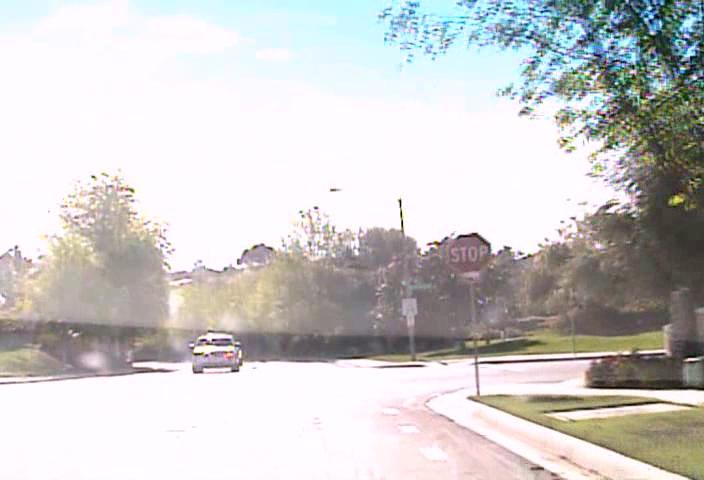stop: (446, 233, 491, 275)
